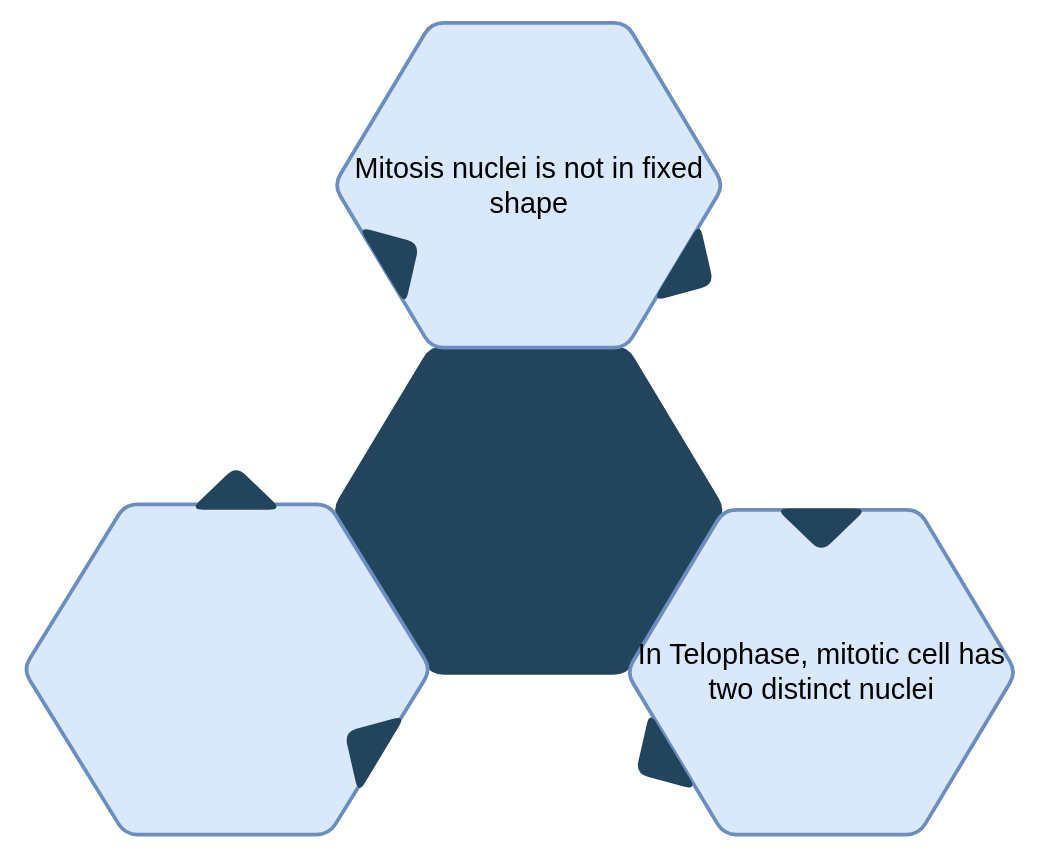
Image size: 1040x859. Some labels were removed from this diagram. Each missing label, with the box of its shape:
Challenges: (331, 345, 725, 674)
Easily confused with artefacts present within the image: (21, 502, 432, 836)
